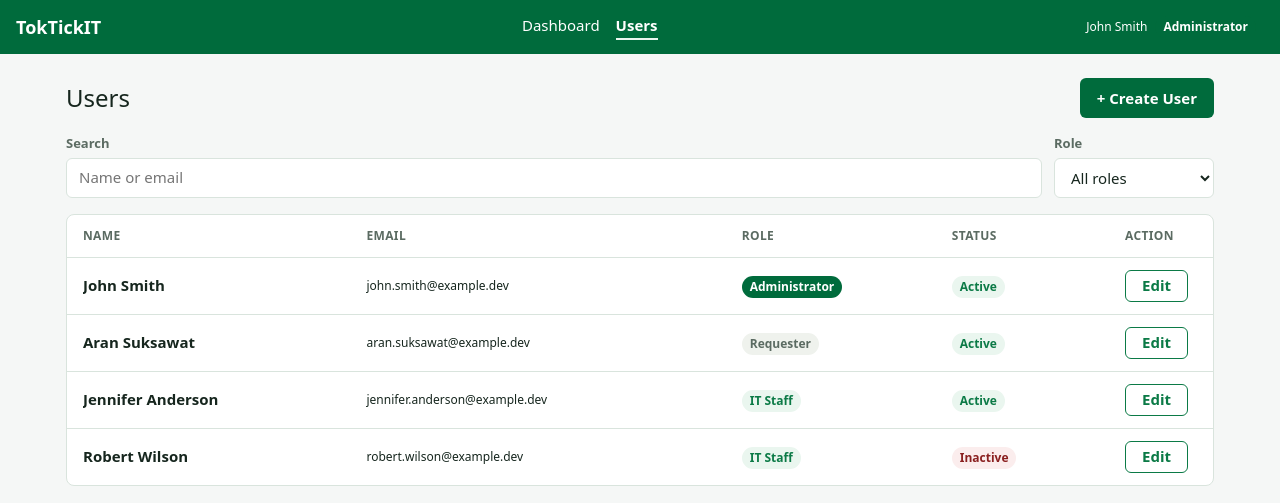
Test: Administrator User Management screen › refetches with the search term and the role filter, and offers Clear filters when nothing matches
The image size is (1280, 503).
Expected: the text "Jennifer Anderson" is shown, [83,389,218,409]
Select "IT Staff" in the dropdown labelled "Role". click: (1134, 178)
box: [1054,158,1214,198]
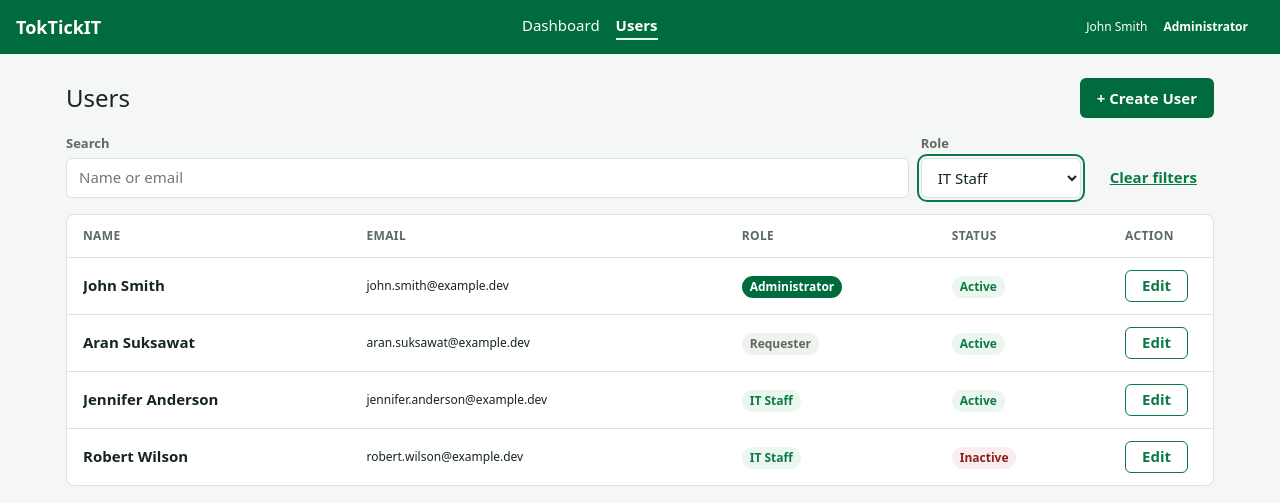
Type "nobody" into the search field labelled "Search". click: (487, 178)
box: [66,158,909,198]
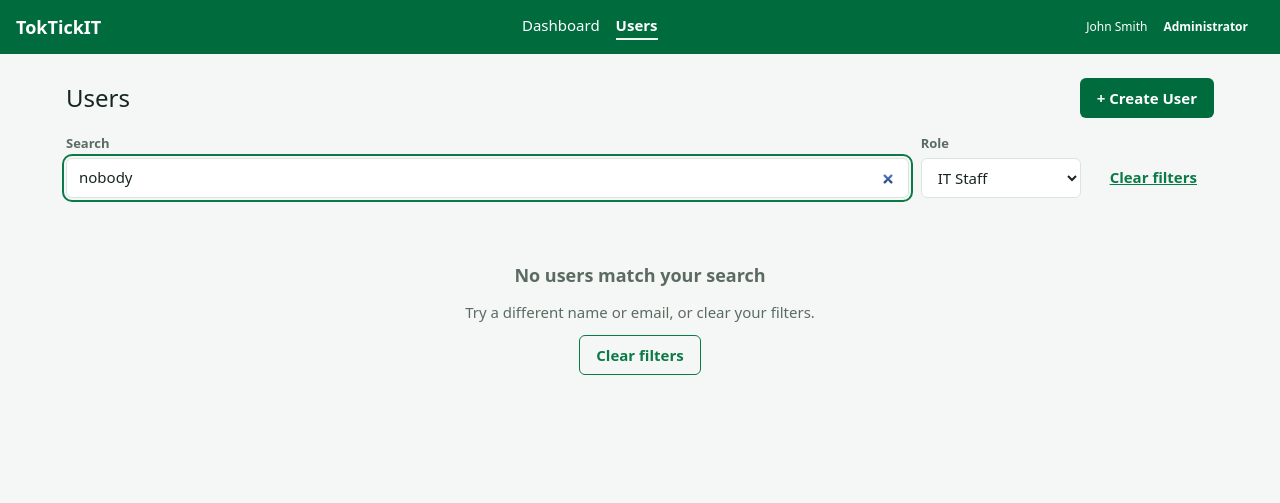
Now the text "No users match your search" is shown, box [514,262,766,288]
Click the button "Clear filters" below "Role". click: (1153, 178)
box: [1093,158,1214,198]
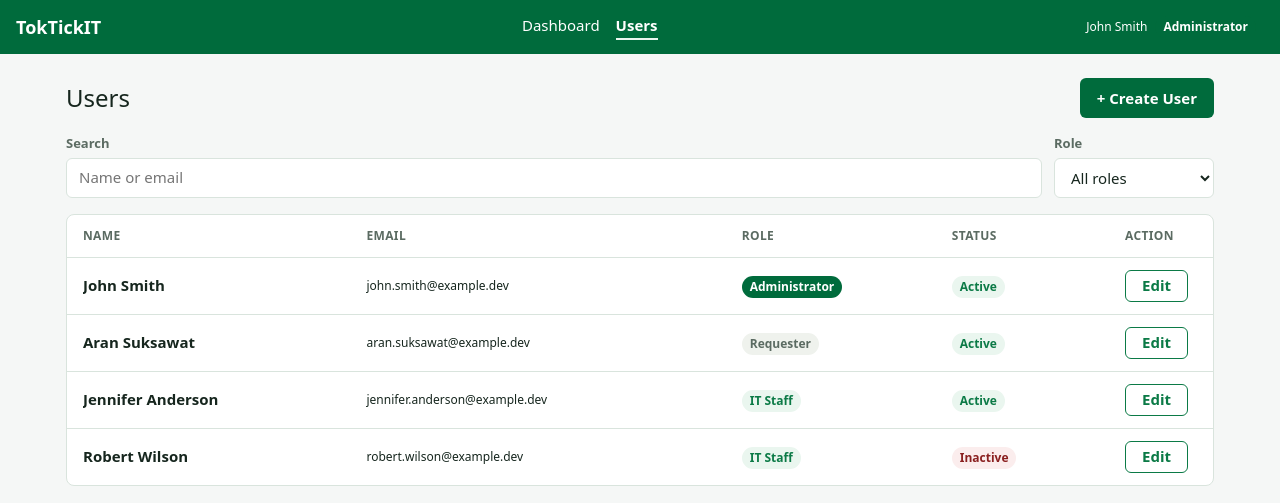
Now the text "Jennifer Anderson" is shown, box [83,389,218,409]
Now the search field labelled "Search" is empty, box [66,158,1042,198]
